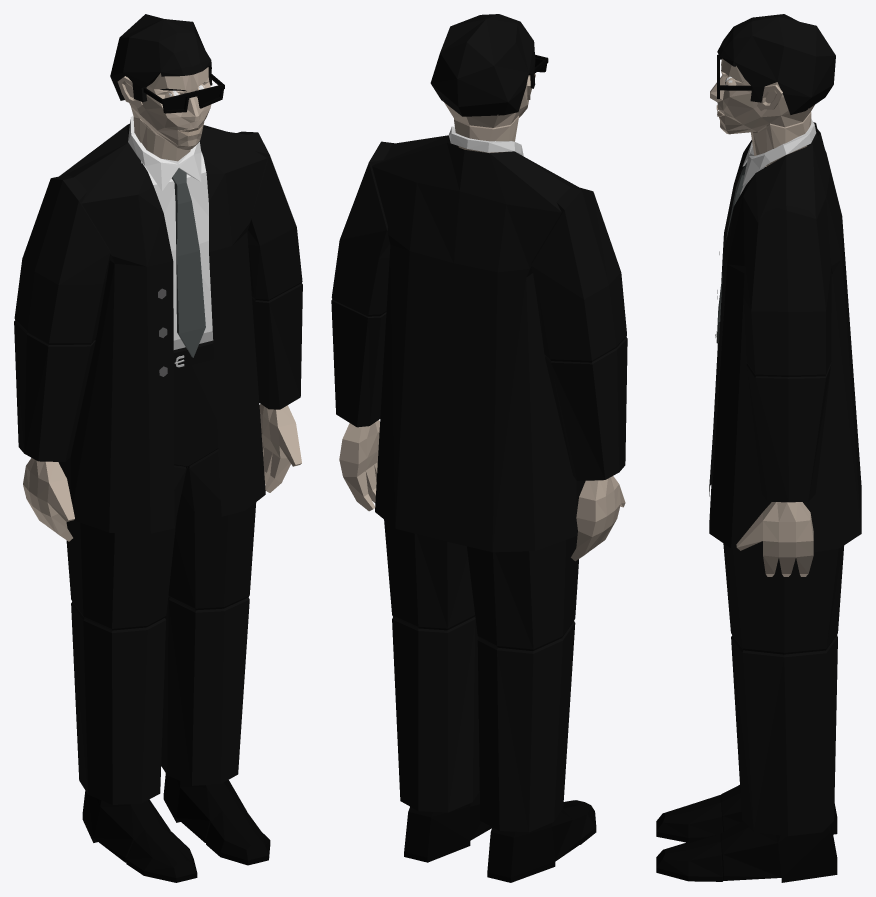
The model's file is vincent.dae.
3 views of the same model, side by side, from view 1: azimuth 30°, elevation 25°; view 2: azimuth 150°, elevation 25°; view 3: azimuth 270°, elevation 25° (orthographic). The views are drawn at different scales.
Visible parts, largest first — view 1: UpperBody, RKnee, LKnee, RUpperArm, RThigh, LThigh, RForeArm, LUpperArm, vthair, LForeArm, vtshirt, Pelvis (+10 smaller); view 2: UpperBody, RKnee, LKnee, RUpperArm, RThigh, vthair, RForeArm, LThigh, LUpperArm, LForeArm, RFoot, LFoot (+6 smaller); view 3: UpperBody, LKnee, LUpperArm, LThigh, LForeArm, vthair, LFoot, LHand, Head, LToe, RToe, Neck (+3 smaller).
Boxes of the visible parts, left/top/right/bottom form: UpperBody: left=58, top=123, right=267, bottom=533; RKnee: left=71, top=602, right=166, bottom=804; LKnee: left=161, top=596, right=249, bottom=785; RUpperArm: left=14, top=175, right=110, bottom=344; RThigh: left=66, top=465, right=186, bottom=630; LThigh: left=168, top=449, right=256, bottom=610; RForeArm: left=14, top=320, right=95, bottom=461; LUpperArm: left=237, top=131, right=302, bottom=301; vthair: left=110, top=14, right=212, bottom=101; LForeArm: left=252, top=283, right=302, bottom=409; vtshirt: left=128, top=116, right=213, bottom=349; Pelvis: left=173, top=340, right=218, bottom=467; UpperBody: left=372, top=135, right=585, bottom=552; RKnee: left=477, top=621, right=575, bottom=832; LKnee: left=392, top=616, right=479, bottom=812; RUpperArm: left=531, top=186, right=626, bottom=362; RThigh: left=467, top=535, right=578, bottom=650; vthair: left=430, top=14, right=535, bottom=116; RForeArm: left=545, top=337, right=627, bottom=480; LThigh: left=384, top=519, right=475, bottom=630; LUpperArm: left=331, top=141, right=394, bottom=316; LForeArm: left=331, top=299, right=386, bottom=427; RFoot: left=487, top=808, right=579, bottom=882; LFoot: left=404, top=791, right=492, bottom=862; UpperBody: left=709, top=126, right=861, bottom=553; LKnee: left=731, top=635, right=837, bottom=835; LUpperArm: left=743, top=205, right=831, bottom=376; LThigh: left=723, top=543, right=844, bottom=654; LForeArm: left=746, top=363, right=830, bottom=502; vthair: left=717, top=14, right=835, bottom=114; LFoot: left=720, top=822, right=837, bottom=882; LHand: left=736, top=502, right=813, bottom=576; Head: left=710, top=58, right=814, bottom=134; LToe: left=656, top=834, right=723, bottom=881; RToe: left=656, top=795, right=722, bottom=842; Neck: left=751, top=112, right=811, bottom=166.
Size of the model in its own units: 2.37 by 1.51 by 6.78.
